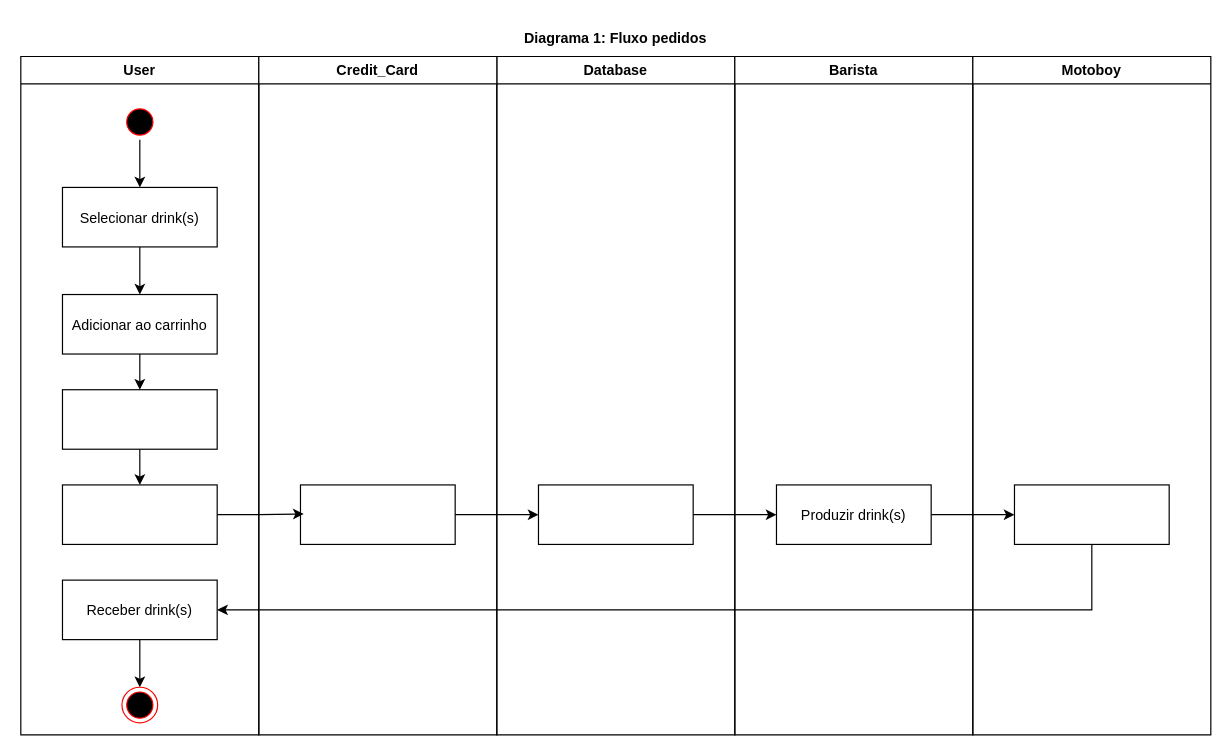
Some shapes in this 1232 by 756 pixel diagram are drawn without their labels. The shapes that lost their labels are listed below. From the top down, each one's centre as x and y in pixels, then its label:
At point (139, 419): "Confirmar pedido".
At point (139, 514): "Pagar pedido".
At point (377, 514): "Validar pagamento".
At point (615, 514): "Salvar pedido".
At point (1091, 514): "Entregar drink(s)".
